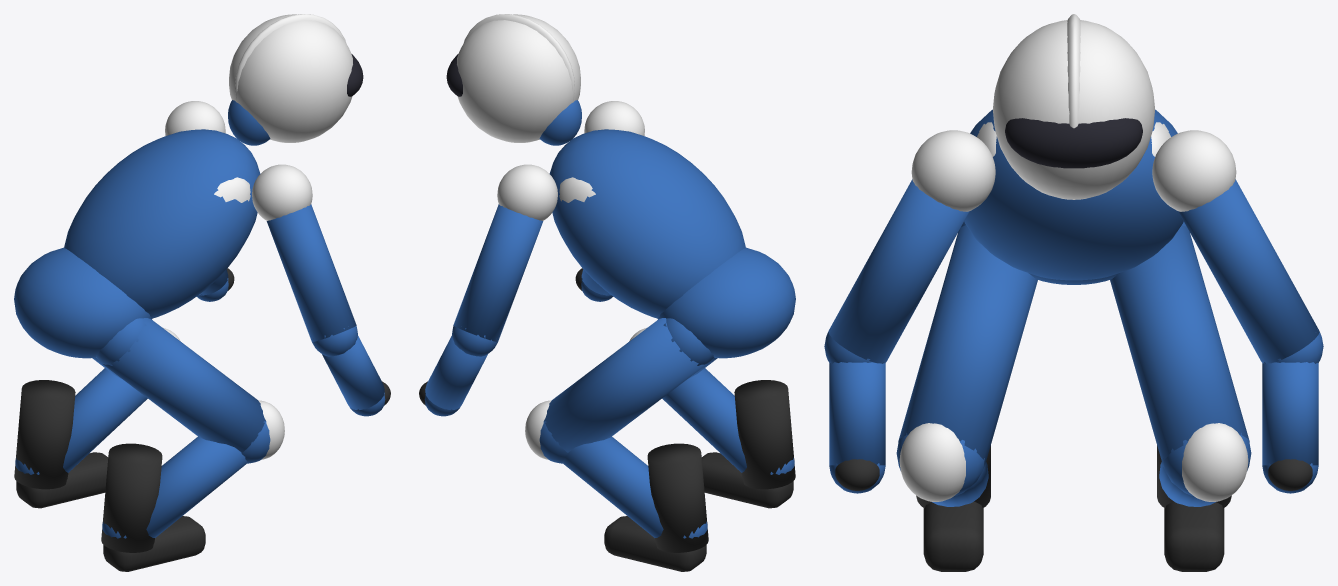
Rendered from SPORT1000_Pilota.glb.
3 renders of one model, left to right at view 1: azimuth 30°, elevation 25°; view 2: azimuth 150°, elevation 25°; view 3: azimuth 270°, elevation 25°, orthographic. The views are drawn at different scales.
Visible parts, largest first — view 1: SPORT1000_Pilota; view 2: SPORT1000_Pilota; view 3: SPORT1000_Pilota.
Part boxes in pixels (x1,y1,x2,y2): SPORT1000_Pilota: (14, 14, 390, 571); SPORT1000_Pilota: (419, 14, 795, 571); SPORT1000_Pilota: (824, 14, 1323, 571).
Bounding box in the file's own units: 0.8765 × 1.19 × 0.83.
